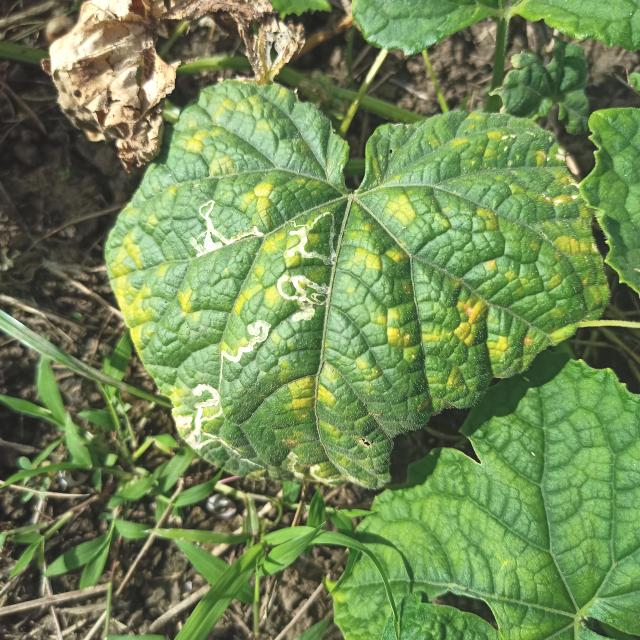disease_cucumber: (109, 84, 594, 475)
